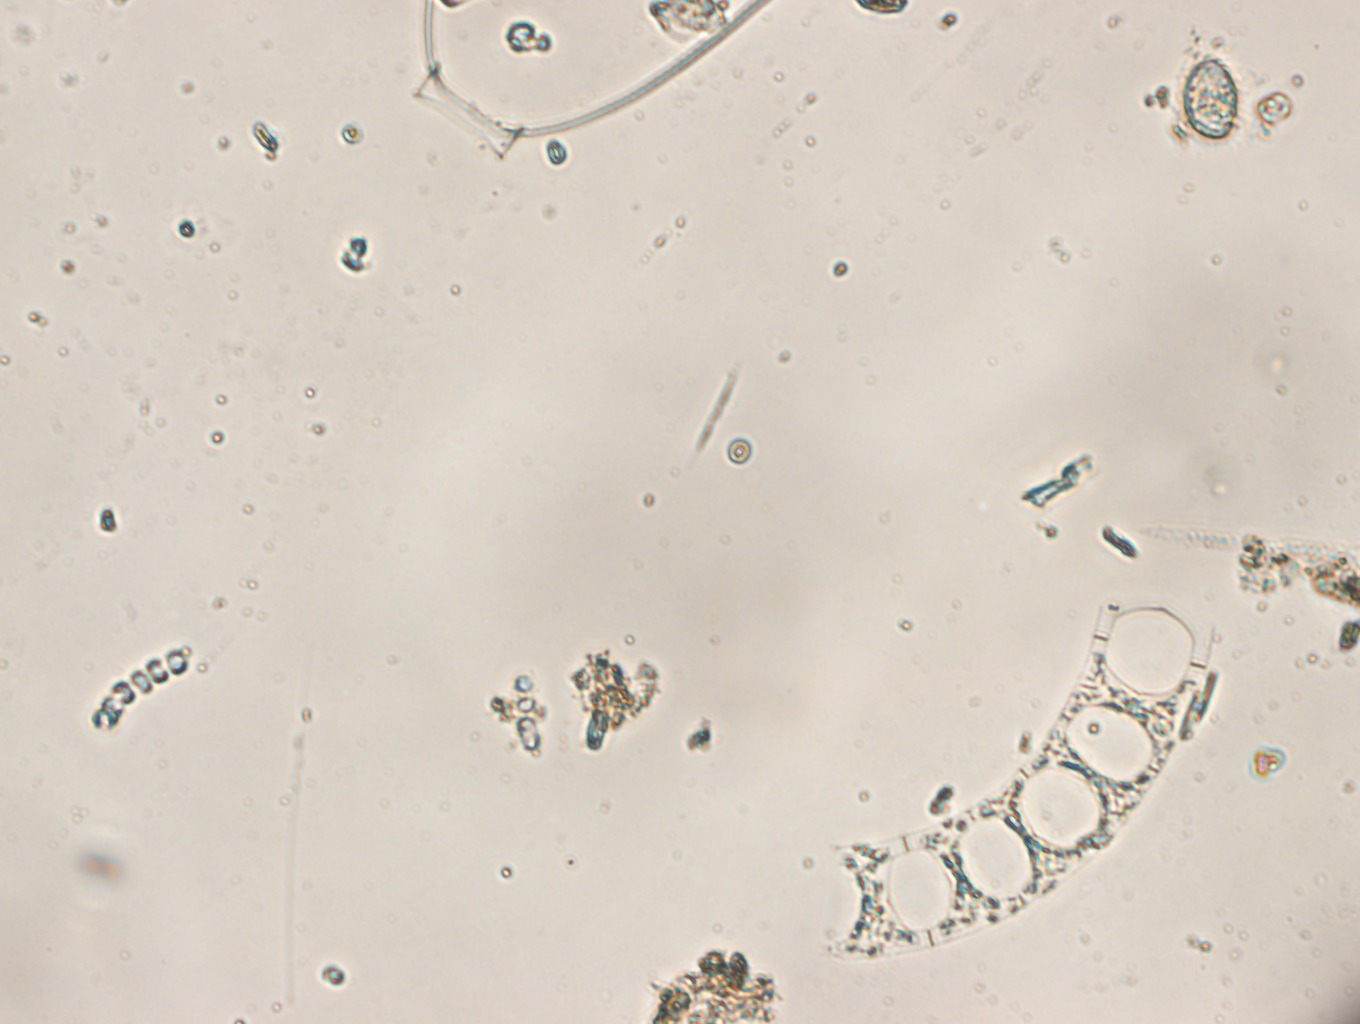chaetoceros: (413, 1, 767, 161)
eucampia: (839, 601, 1213, 958)
skeletonema: (94, 648, 189, 734)
